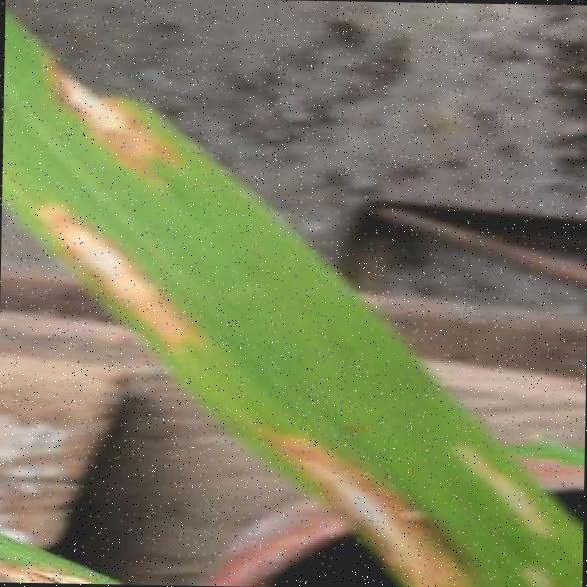Leaf_smut: (14, 181, 220, 370), (257, 410, 481, 582), (32, 25, 196, 178)
